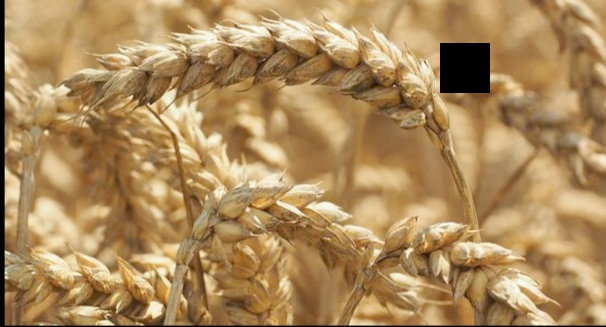wheat: (180, 175, 547, 325), (40, 13, 451, 146)
